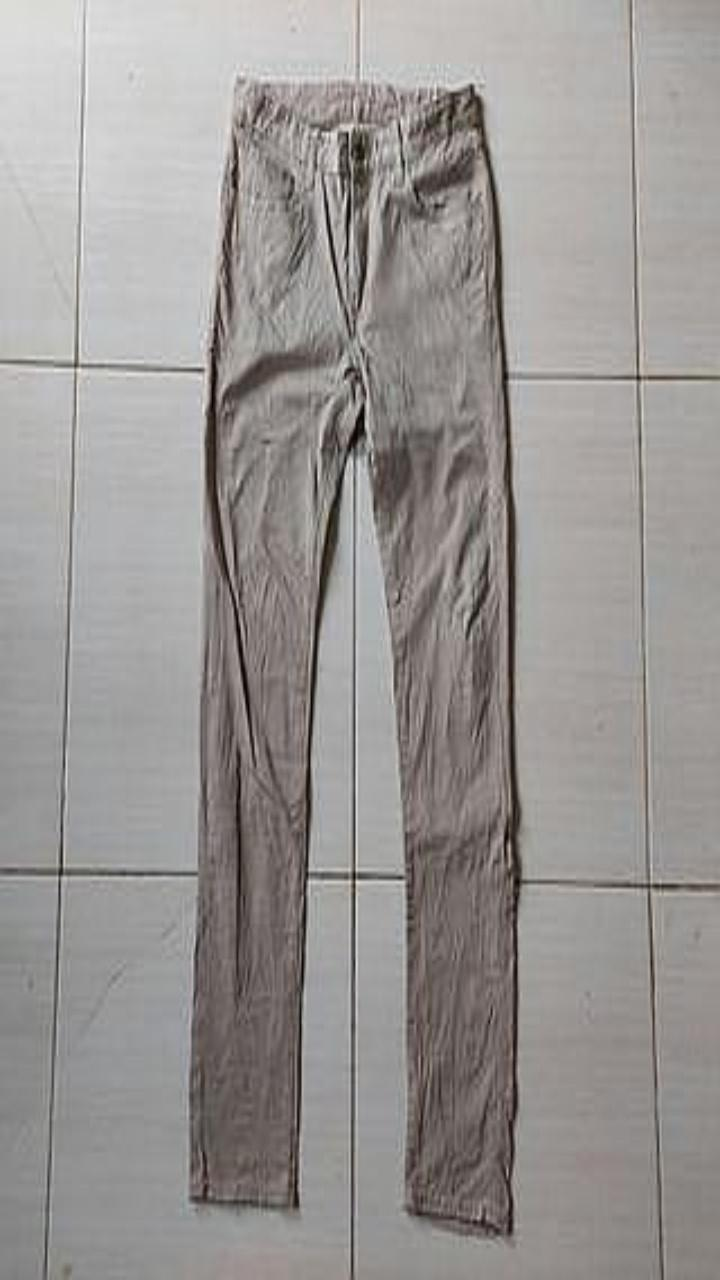Jeans: (190, 75, 517, 1233)
